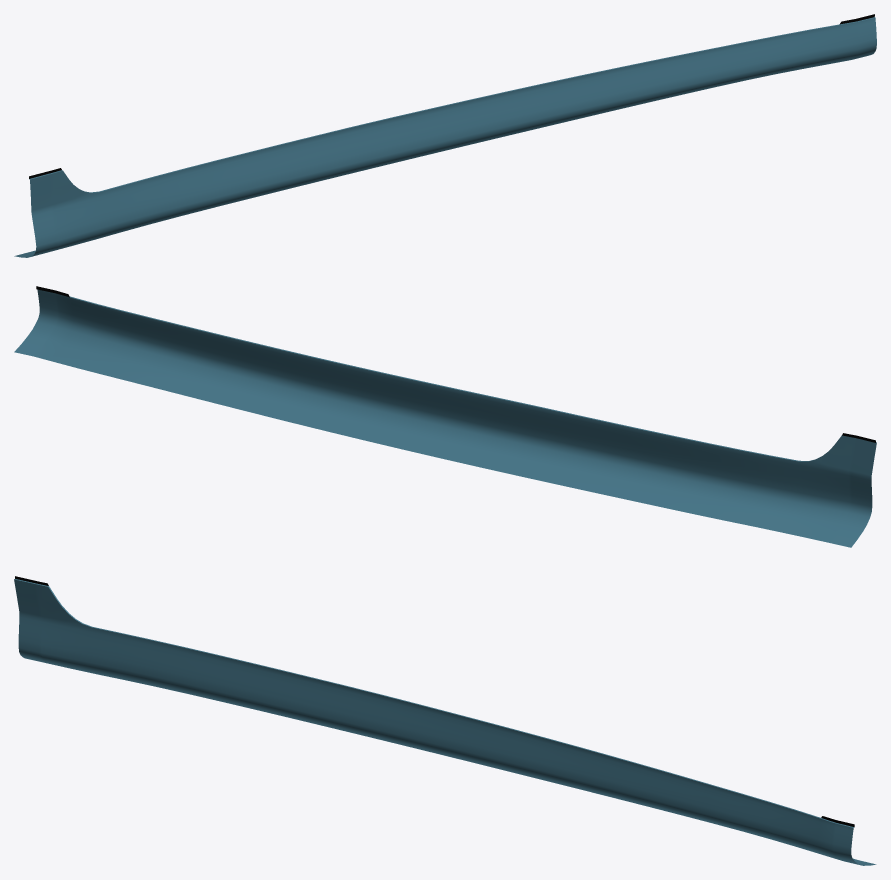
3 views of the same model, one above another, from view 1: azimuth 30°, elevation 25°; view 2: azimuth 150°, elevation 25°; view 3: azimuth 330°, elevation 25° (orthographic).
Parts seen in each view (by area): view 1: Y175_18_226A_R_1_DaS_Y175_18_226A_R, Y175_18_226A_R_1_DaS_Y175_18_226A_R_E; view 2: Y175_18_226A_R_1_DaS_Y175_18_226A_R, Y175_18_226A_R_1_DaS_Y175_18_226A_R_E; view 3: Y175_18_226A_R_1_DaS_Y175_18_226A_R, Y175_18_226A_R_1_DaS_Y175_18_226A_R_E.
Boxes of the visible parts, <box> form: Y175_18_226A_R_1_DaS_Y175_18_226A_R: <box>14,18,876,257</box>; Y175_18_226A_R_1_DaS_Y175_18_226A_R_E: <box>29,17,875,192</box>; Y175_18_226A_R_1_DaS_Y175_18_226A_R: <box>14,289,876,547</box>; Y175_18_226A_R_1_DaS_Y175_18_226A_R_E: <box>69,296,876,461</box>; Y175_18_226A_R_1_DaS_Y175_18_226A_R: <box>14,579,876,865</box>; Y175_18_226A_R_1_DaS_Y175_18_226A_R_E: <box>14,579,853,827</box>.
Size of the model in its own units: 202 by 23.1 by 12.35.
